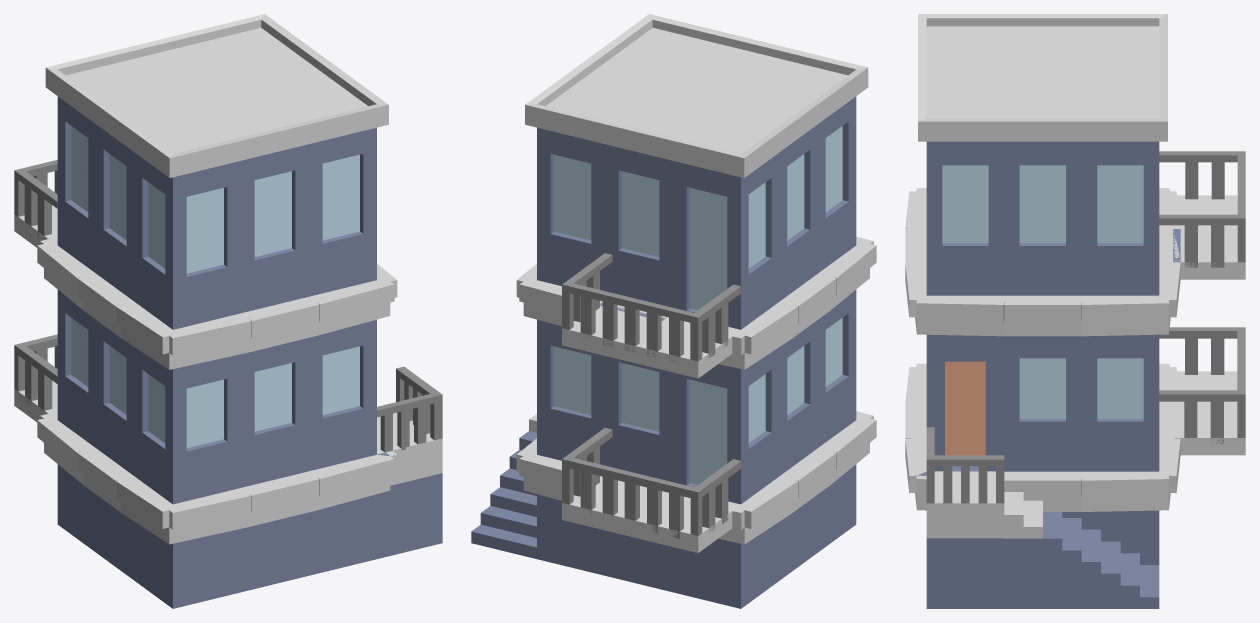
The model's file is house_element.fbx.
The picture shows the model from 3 angles, left to right: view 1: azimuth 30°, elevation 25°; view 2: azimuth 150°, elevation 25°; view 3: azimuth 270°, elevation 25°; orthographic projection.
Parts seen in each view (by area): view 1: Würfel; view 2: Würfel; view 3: Würfel.
Part boxes in pixels (left/top/right/bottom): Würfel: left=14, top=14, right=442, bottom=608; Würfel: left=471, top=14, right=876, bottom=608; Würfel: left=905, top=14, right=1245, bottom=608.
Size of the model in its own units: 692 by 1044 by 702.
